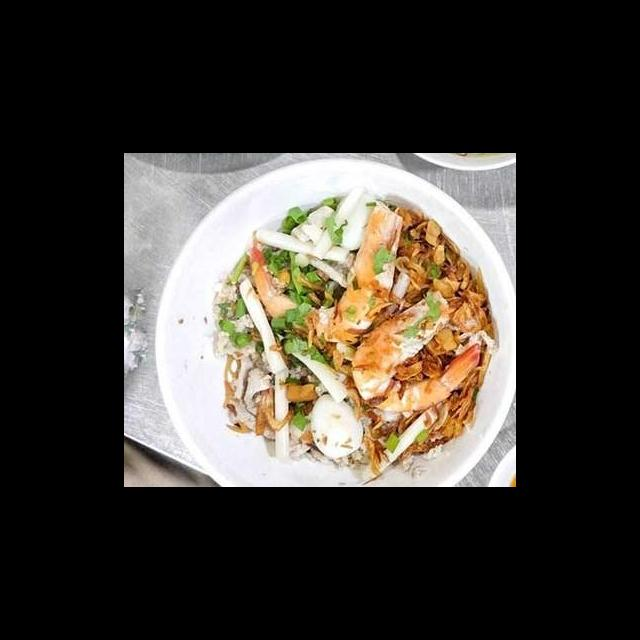thit heo: (227, 352, 293, 441)
tom: (246, 196, 409, 347), (347, 286, 486, 417)
trung: (305, 391, 368, 461)
